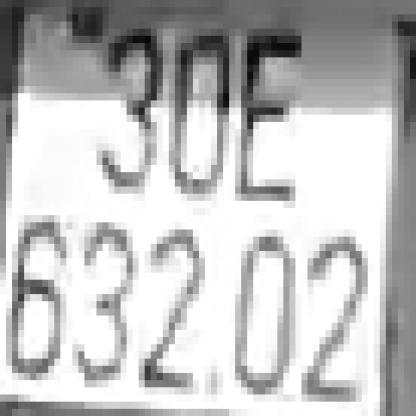0: (223, 230, 289, 388), (175, 29, 223, 201)
2: (295, 230, 362, 394), (145, 222, 199, 380)
3: (96, 36, 163, 194), (78, 215, 133, 373)
6: (12, 208, 66, 373)
E: (235, 36, 296, 201)
